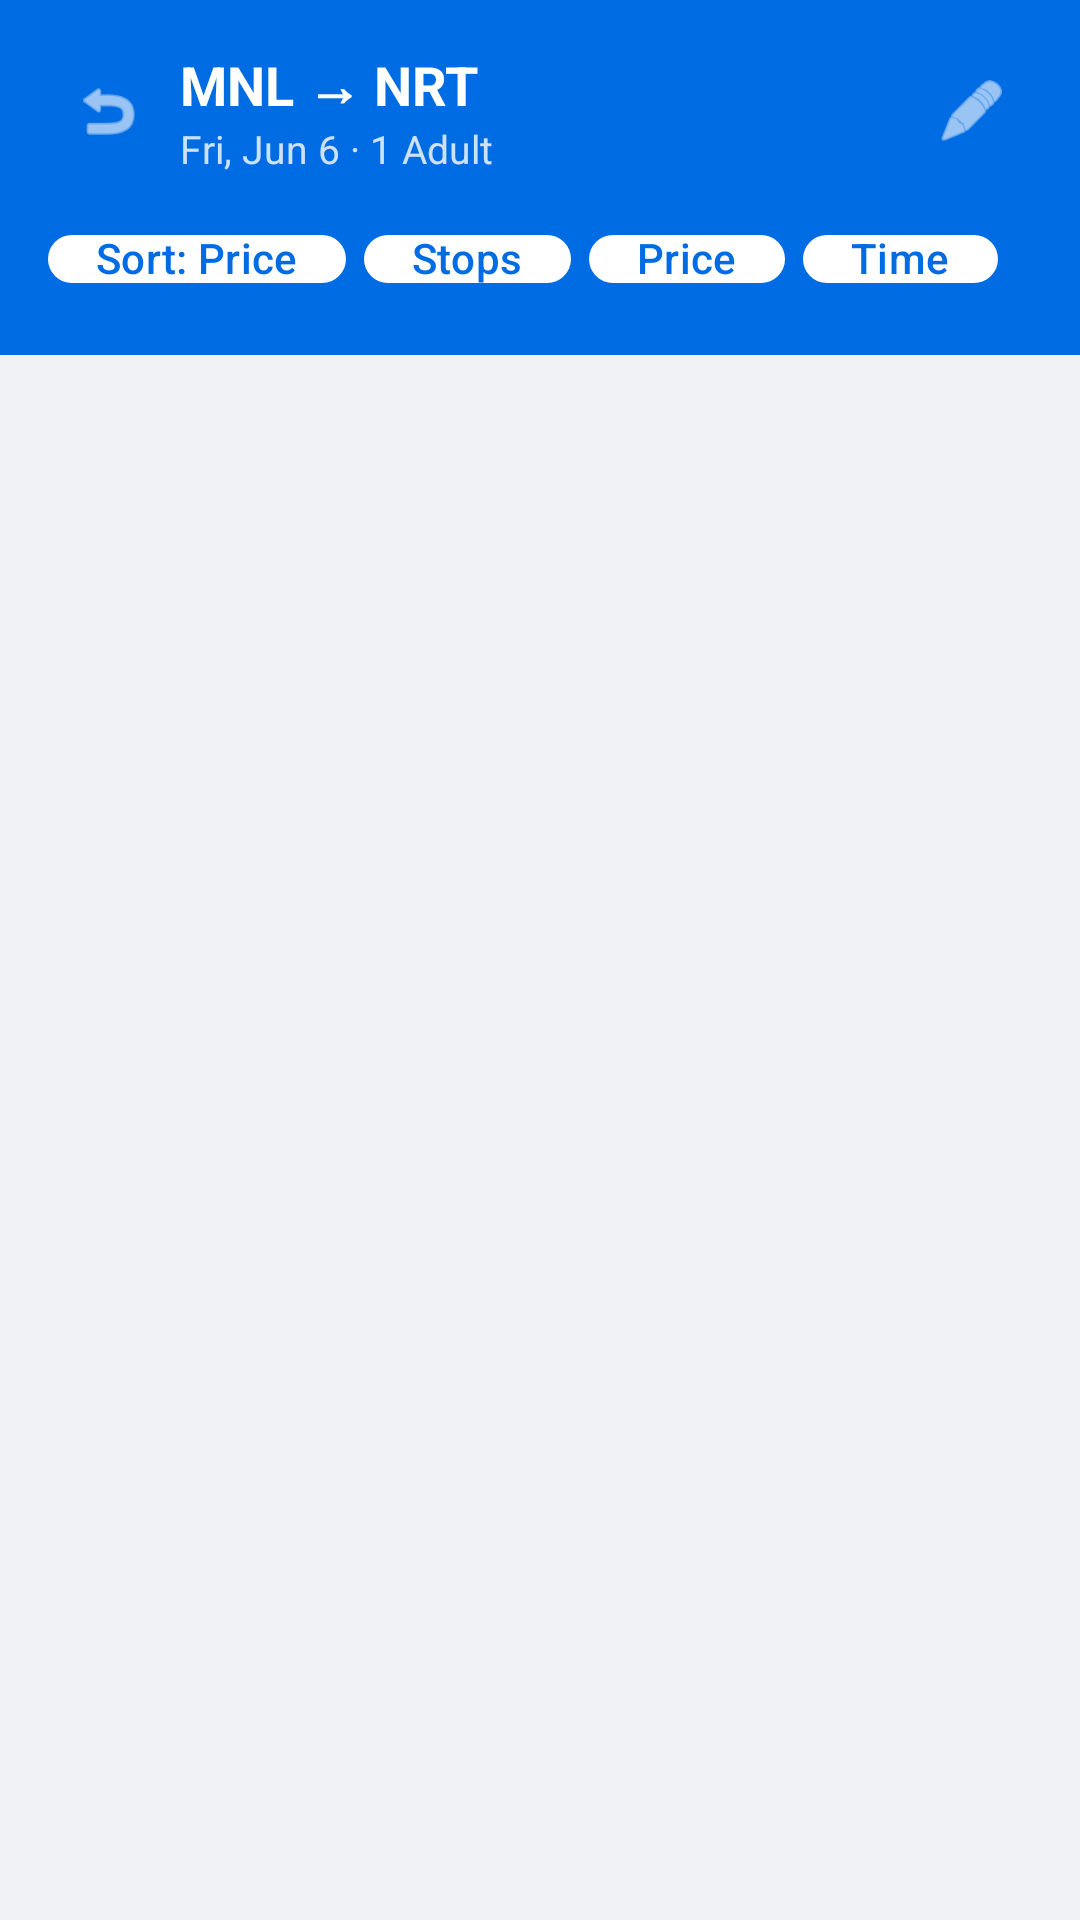

Icons on this 1080*1920 Android screen, each with its box as {"left": x1, "top": y1, "right": x2, "bottom": y2}:
edit: {"left": 941, "top": 80, "right": 1002, "bottom": 141}
revert: {"left": 83, "top": 88, "right": 135, "bottom": 135}
